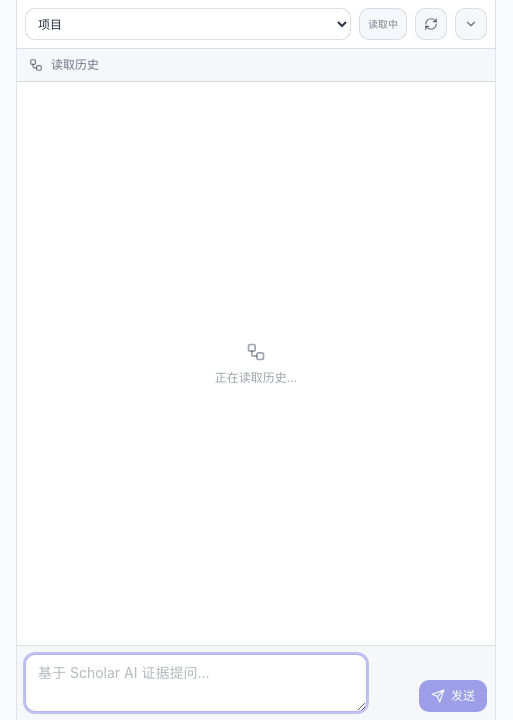
Test: AgentSidebar › ignores a delayed receipt list from the previous project after switching projects
The width and height of the screenshot is (513, 720).
Select "Project B" in the dropdown named "Scholar AI 项目": (188, 24) top-left (25, 8), bottom-right (351, 40)
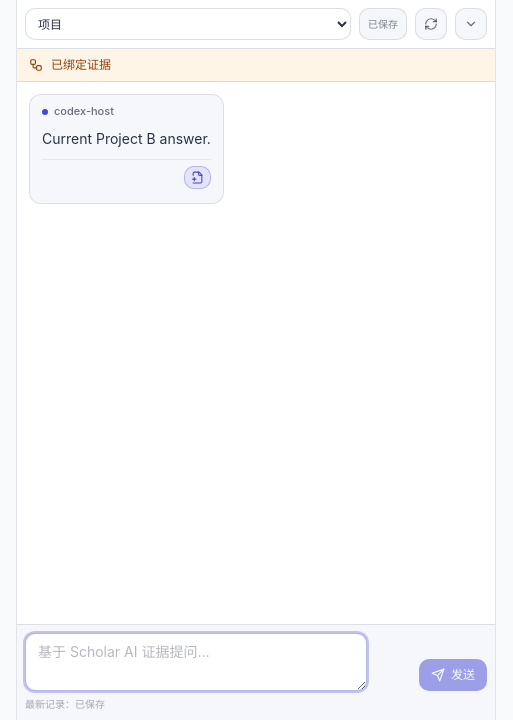
Check: the text "Current Project B answer." is shown, box top-left (42, 127), bottom-right (211, 151)
